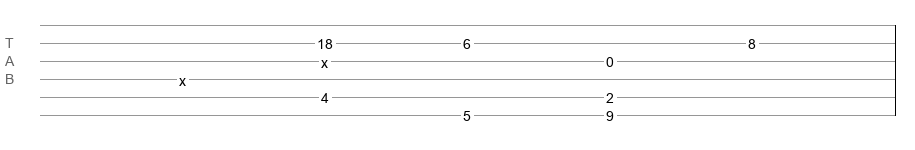0: (606, 54, 614, 64)
18: (317, 36, 333, 46)
2: (606, 90, 614, 100)
4: (321, 90, 329, 100)
5: (463, 108, 471, 118)
6: (463, 36, 471, 46)
8: (748, 36, 756, 46)
9: (606, 108, 614, 118)
x: (179, 73, 186, 81), (321, 55, 328, 63)
